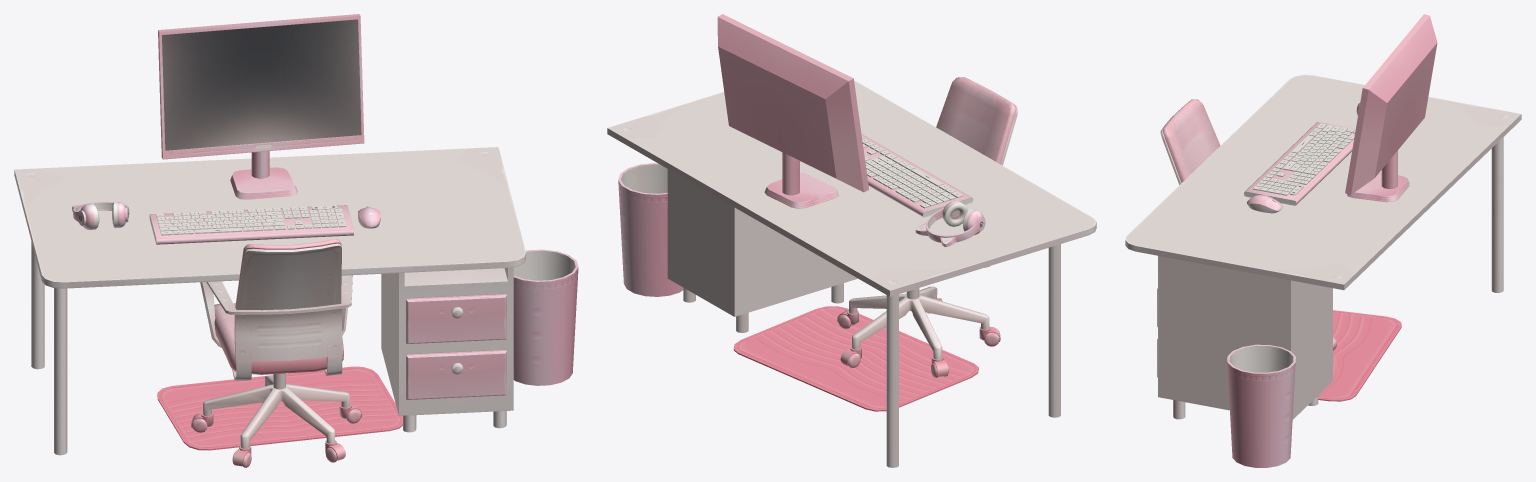
Rendered from gaming_set_and_desk.glb.
The picture shows the model from 3 angles, left to right: view 1: azimuth 30°, elevation 25°; view 2: azimuth 150°, elevation 25°; view 3: azimuth 270°, elevation 25°; orthographic projection. The views are drawn at different scales.
Visible parts, largest first — view 1: Bedroom ComputerTable_ComputerTable.001_0_ComputerTable.001_, PC Monitor_PC.001_0, ChairPC_Bedroom ChairPC.001_0, BedroomPCcarpet_BedroomPCcarpet.001_0, Bedroom TrashBucket_BedroomTrashBucket.001_0_BedroomTrashBuc, PC Keyboard_PC.001_0, PC EarsListener_PC.001_0; view 2: Bedroom ComputerTable_ComputerTable.001_0_ComputerTable.001_, PC Monitor_PC.001_0, BedroomPCcarpet_BedroomPCcarpet.001_0, ChairPC_Bedroom ChairPC.001_0, Bedroom TrashBucket_BedroomTrashBucket.001_0_BedroomTrashBuc, PC Keyboard_PC.001_0, PC EarsListener_PC.001_0; view 3: Bedroom ComputerTable_ComputerTable.001_0_ComputerTable.001_, PC Monitor_PC.001_0, Bedroom TrashBucket_BedroomTrashBucket.001_0_BedroomTrashBuc, PC Keyboard_PC.001_0, BedroomPCcarpet_BedroomPCcarpet.001_0, ChairPC_Bedroom ChairPC.001_0, PC Mouse_PC.001_0.
Boxes of the visible parts, bbox=[...] form: Bedroom ComputerTable_ComputerTable.001_0_ComputerTable.001_: bbox=[14, 147, 525, 455]; PC Monitor_PC.001_0: bbox=[158, 14, 364, 199]; ChairPC_Bedroom ChairPC.001_0: bbox=[191, 239, 362, 467]; BedroomPCcarpet_BedroomPCcarpet.001_0: bbox=[157, 366, 402, 450]; Bedroom TrashBucket_BedroomTrashBucket.001_0_BedroomTrashBuc: bbox=[513, 249, 578, 385]; PC Keyboard_PC.001_0: bbox=[149, 205, 353, 244]; PC EarsListener_PC.001_0: bbox=[72, 202, 129, 229]; Bedroom ComputerTable_ComputerTable.001_0_ComputerTable.001_: bbox=[607, 80, 1096, 467]; PC Monitor_PC.001_0: bbox=[717, 14, 868, 208]; BedroomPCcarpet_BedroomPCcarpet.001_0: bbox=[733, 306, 978, 411]; ChairPC_Bedroom ChairPC.001_0: bbox=[837, 77, 1017, 377]; Bedroom TrashBucket_BedroomTrashBucket.001_0_BedroomTrashBuc: bbox=[618, 163, 683, 296]; PC Keyboard_PC.001_0: bbox=[861, 134, 973, 217]; PC EarsListener_PC.001_0: bbox=[915, 201, 985, 246]; Bedroom ComputerTable_ComputerTable.001_0_ComputerTable.001_: bbox=[1125, 74, 1521, 419]; PC Monitor_PC.001_0: bbox=[1345, 14, 1437, 202]; Bedroom TrashBucket_BedroomTrashBucket.001_0_BedroomTrashBuc: bbox=[1227, 344, 1295, 467]; PC Keyboard_PC.001_0: bbox=[1244, 122, 1355, 205]; BedroomPCcarpet_BedroomPCcarpet.001_0: bbox=[1318, 310, 1401, 401]; ChairPC_Bedroom ChairPC.001_0: bbox=[1160, 99, 1337, 350]; PC Mouse_PC.001_0: bbox=[1247, 195, 1282, 213].
Size of the model in its own units: 99.03 by 65.05 by 74.5.
5 materials, 5 textured.
